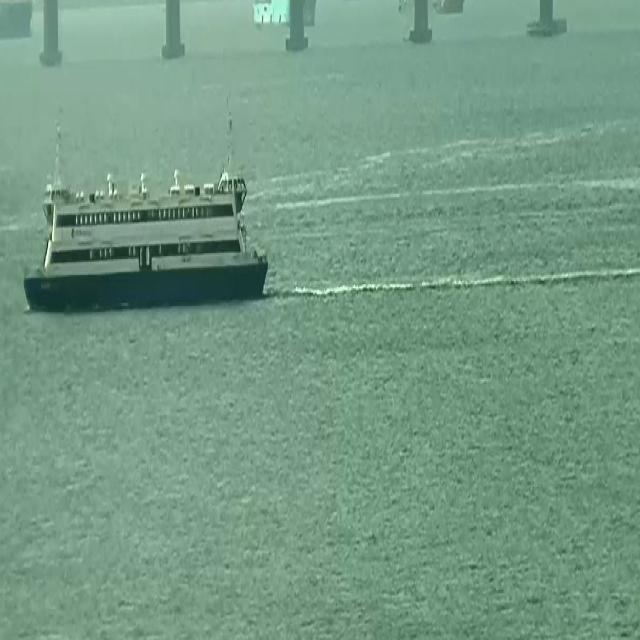Passenger: (23, 112, 267, 310)
